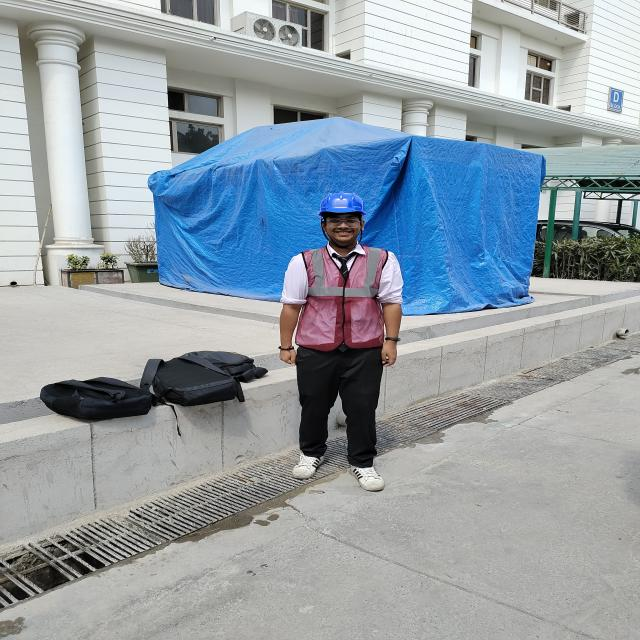safe: (281, 192, 401, 490)
